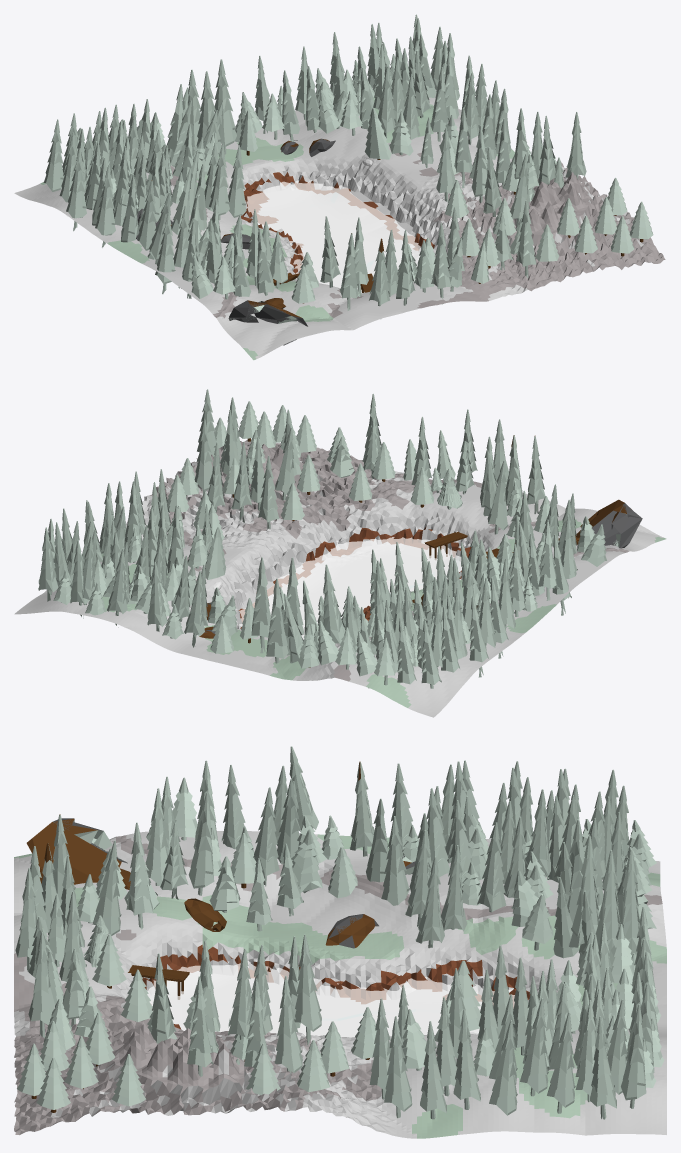
The model's file is winterlight.fbx.
3 views of the same model, one above another, from view 1: azimuth 30°, elevation 25°; view 2: azimuth 150°, elevation 25°; view 3: azimuth 270°, elevation 25° (orthographic). The views are drawn at different scales.
Visible parts, largest first — view 1: Cylinder.006, Terrain, Ice, Icosphere.002; view 2: Cylinder.006, Terrain, Ice, Icosphere.002; view 3: Cylinder.006, Terrain, Ice, Icosphere.002.
Part boxes in pixels (bbox=[...]): Cylinder.006: bbox=[44, 14, 653, 323]; Terrain: bbox=[14, 88, 665, 360]; Ice: bbox=[245, 180, 420, 292]; Icosphere.002: bbox=[123, 138, 335, 345]; Cylinder.006: bbox=[38, 389, 631, 688]; Terrain: bbox=[14, 440, 666, 717]; Ice: bbox=[239, 537, 462, 639]; Icosphere.002: bbox=[204, 503, 642, 634]; Cylinder.006: bbox=[15, 746, 664, 1119]; Terrain: bbox=[14, 831, 666, 1138]; Ice: bbox=[147, 961, 514, 1037]; Icosphere.002: bbox=[53, 818, 415, 948].
Size of the model in its own units: 1524 by 443 by 1504.
